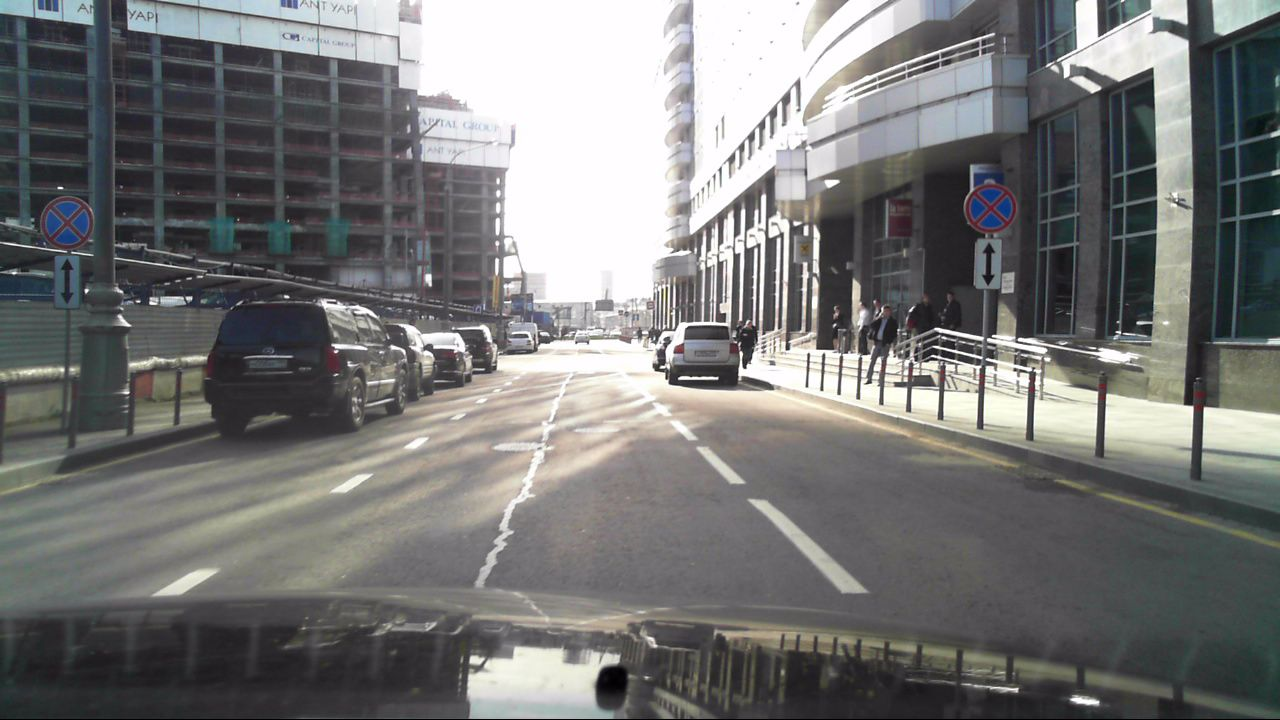No Parking: (960, 182, 1019, 237)
